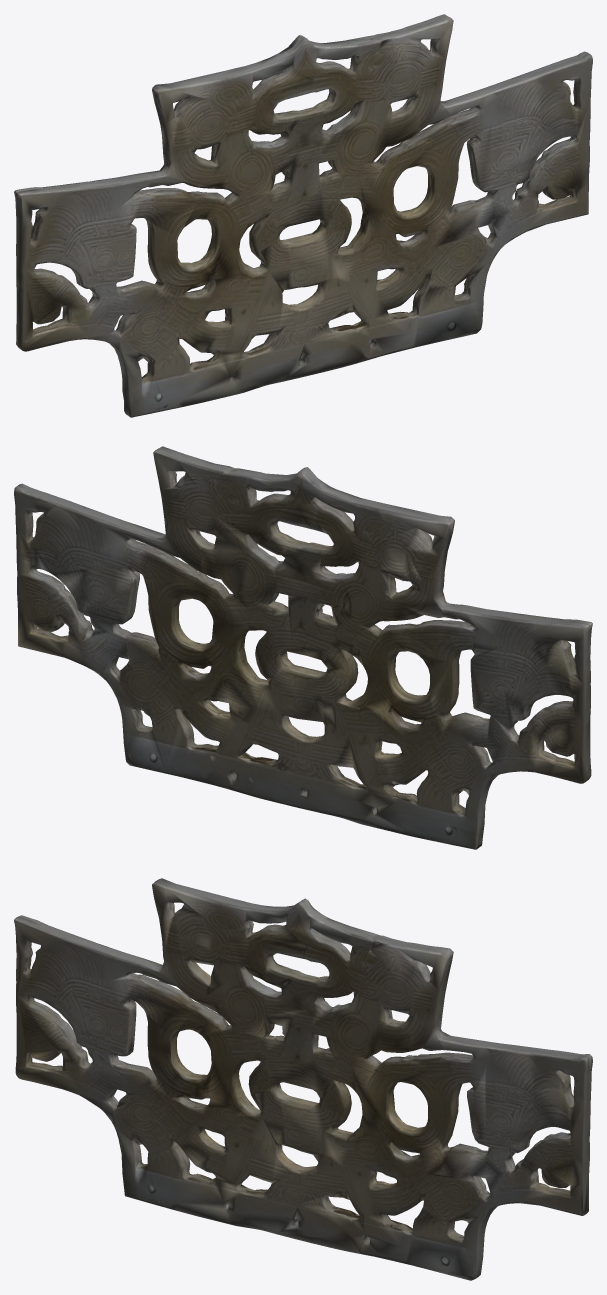
File: jade-comb-roaming.glb
The picture shows the model from 3 angles, top to bottom: view 1: azimuth 30°, elevation 25°; view 2: azimuth 150°, elevation 25°; view 3: azimuth 330°, elevation 25°; orthographic projection.
Parts seen in each view (by area): view 1: node_0; view 2: node_0; view 3: node_0.
Boxes of the visible parts, left/top/right/bottom form: node_0: left=14, top=14, right=592, bottom=417; node_0: left=14, top=446, right=592, bottom=849; node_0: left=14, top=878, right=592, bottom=1280.
Size of the model in its own units: 1.16 by 0.6532 by 0.0245.
Materials: 1 (1 with a texture image).
